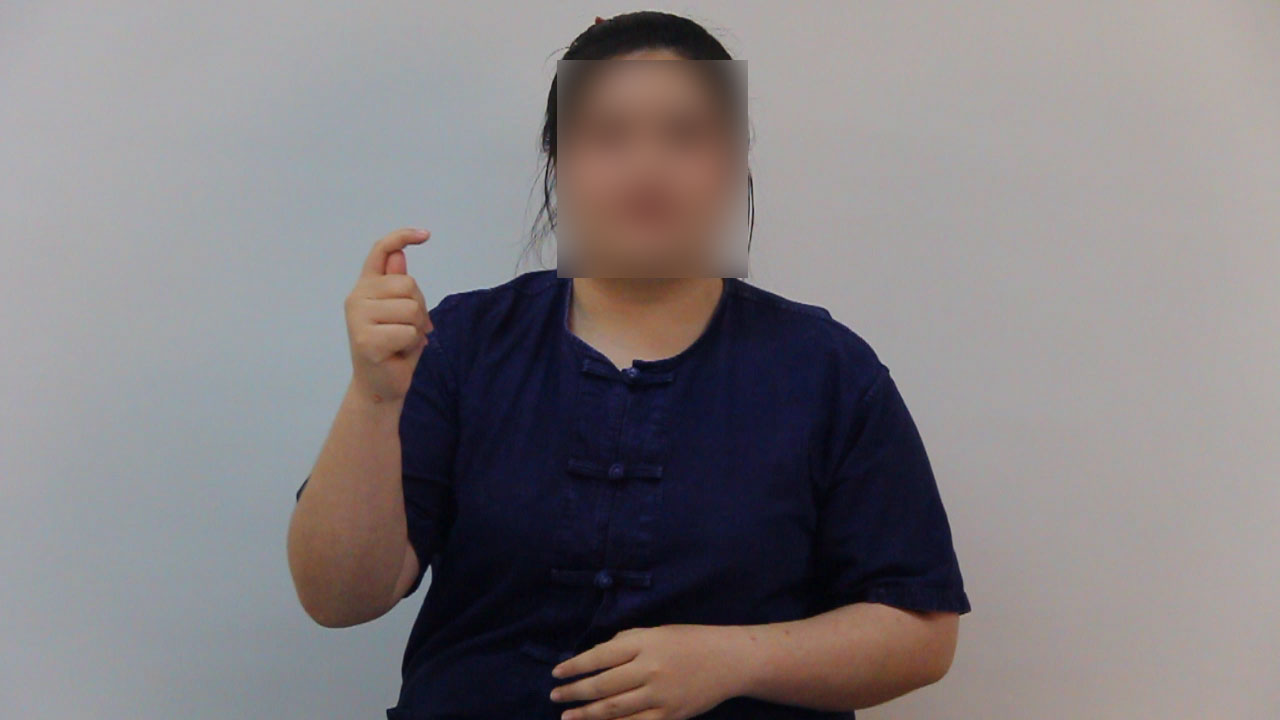or: (339, 217, 441, 416)
